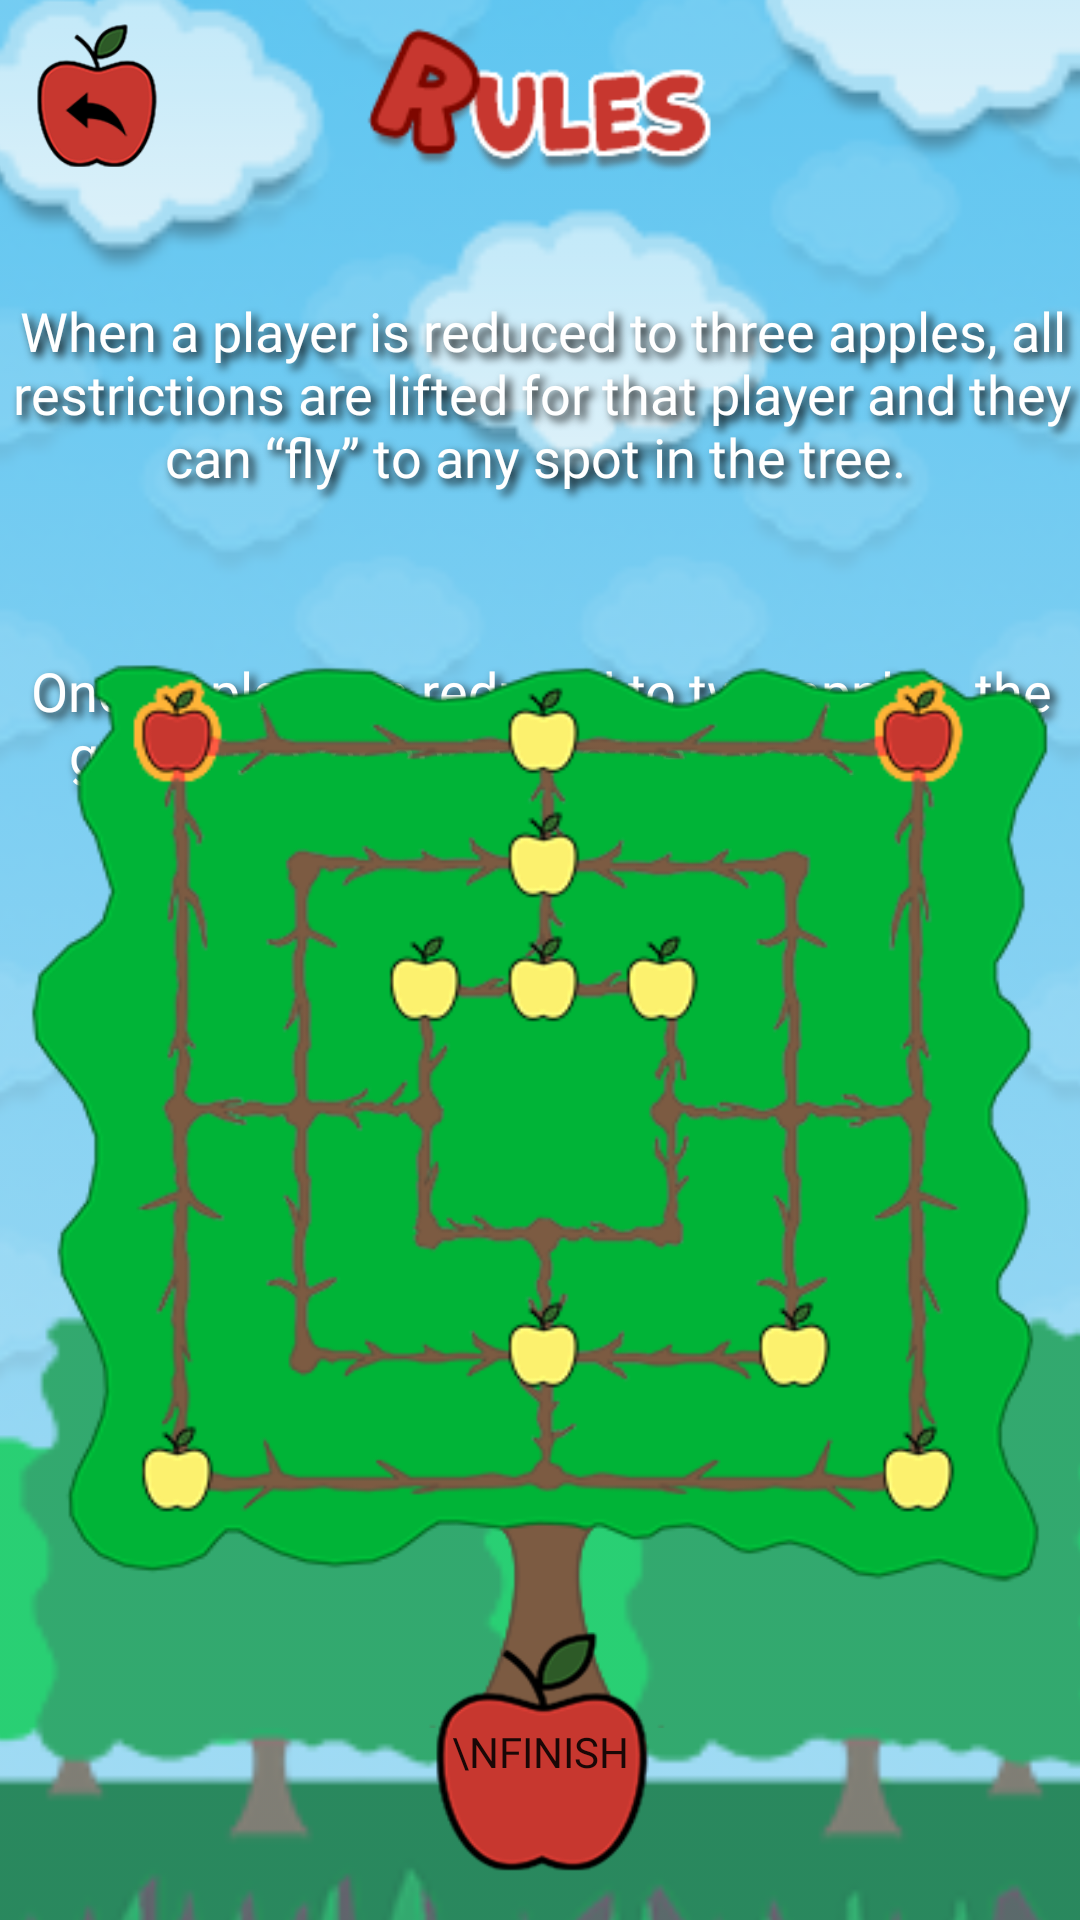

Named icons in this screenshot (1080w x 1920h) and their bounding boxes, (x1, y1, x2, y2):
backbutton: (37, 24, 157, 167)
